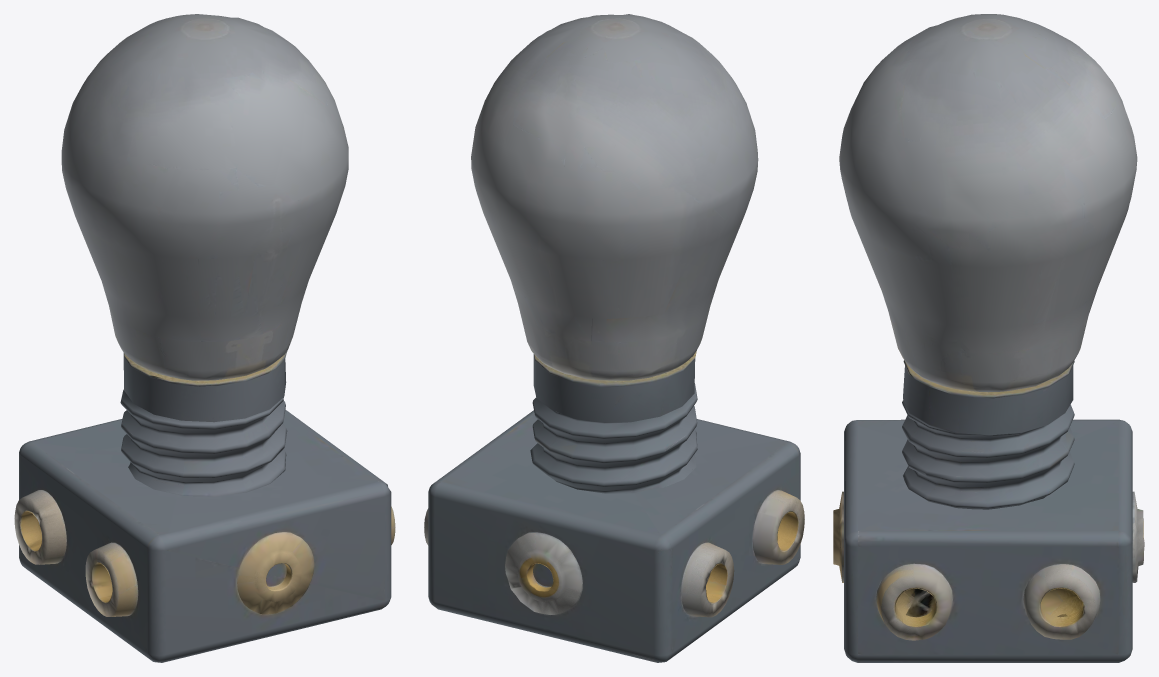
The model's file is lamp-holder.glb.
3 views of the same model, side by side, from view 1: azimuth 30°, elevation 25°; view 2: azimuth 150°, elevation 25°; view 3: azimuth 270°, elevation 25° (orthographic). The views are drawn at different scales.
Bounding box in the file's own units: 0.4903 × 0.9512 × 0.4633.
1 material, 1 textured.
